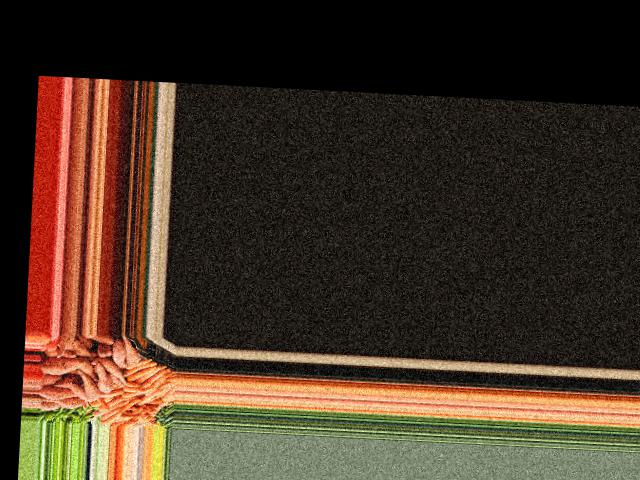carrot: (125, 365, 156, 381)
